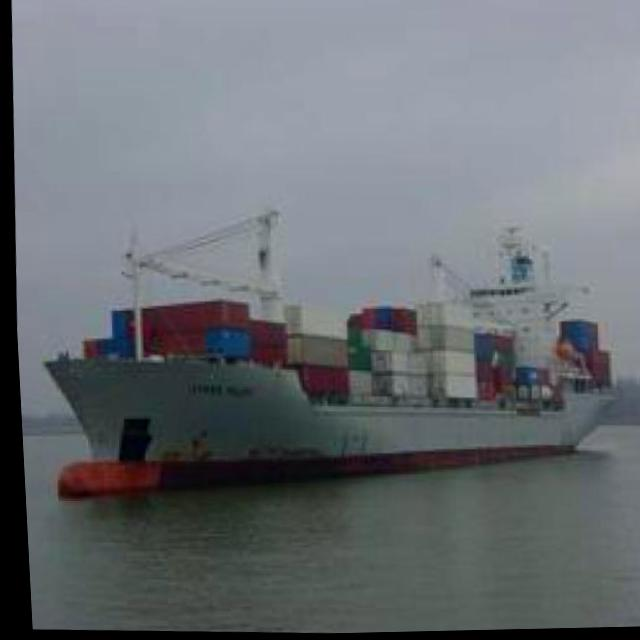ship2: (38, 209, 610, 499)
